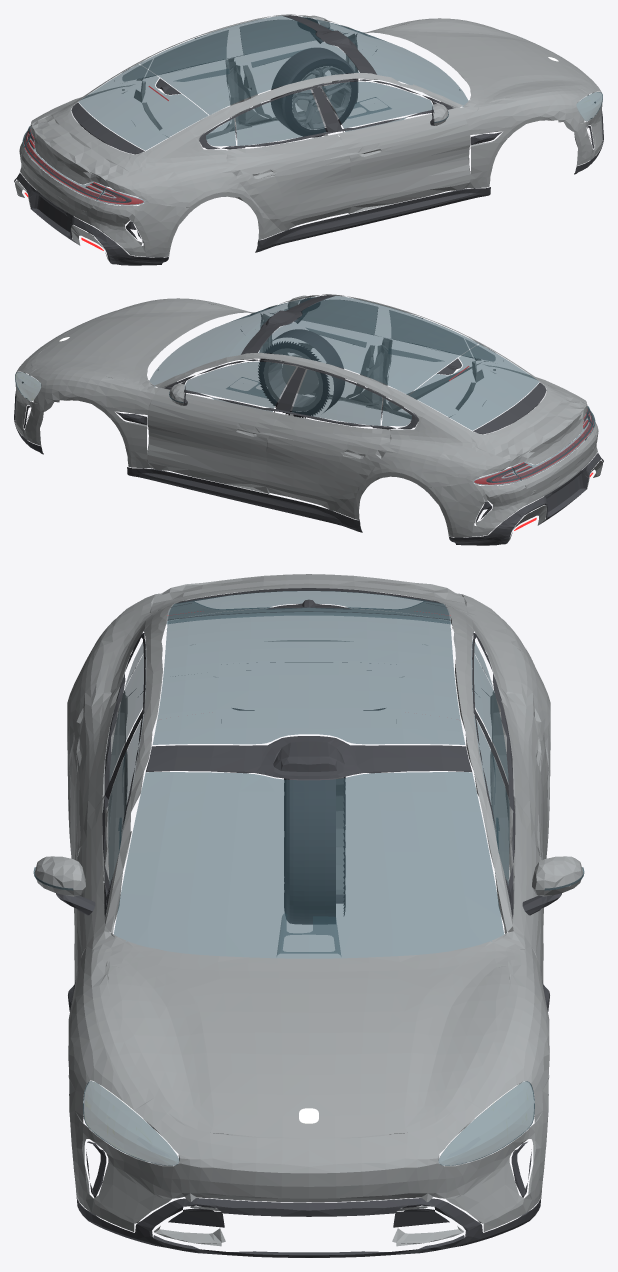
3 renders of one model, top to bottom at view 1: azimuth 30°, elevation 25°; view 2: azimuth 150°, elevation 25°; view 3: azimuth 270°, elevation 25°, orthographic. The views are drawn at different scales.
Visible parts, largest first — view 1: bodyPainted, bodyPart_05_Mesh26Mtl, bodyPart_06_Mesh25Mtl, wheelPainted, bodyPart_17_Mesh71Mtl, wheelInner, wheelTire, bodyPart_13_Mesh17Mtl, bodyPart_10_Mesh19Mtl, bodyPart_04_Mesh30Mtl, bodyPart_02_Mesh32Mtl, bodyPart_18_Mesh68Mtl; view 2: bodyPainted, bodyPart_05_Mesh26Mtl, bodyPart_06_Mesh25Mtl, bodyPart_17_Mesh71Mtl, wheelPainted, wheelInner, wheelTire, bodyPart_13_Mesh17Mtl, bodyPart_10_Mesh19Mtl, bodyPart_04_Mesh30Mtl, wheelBrake, bodyPart_02_Mesh32Mtl (+1 smaller); view 3: bodyPainted, bodyPart_05_Mesh26Mtl, bodyPart_06_Mesh25Mtl, bodyPart_02_Mesh32Mtl, wheelInner, bodyPart_18_Mesh68Mtl, bodyPart_17_Mesh71Mtl, bodyPart_04_Mesh30Mtl, wheelPainted.
Part boxes in pixels (x1=…): bodyPainted: x1=15, y1=14, x2=602, y2=261; bodyPart_05_Mesh26Mtl: x1=78, y1=15, x2=468, y2=150; bodyPart_06_Mesh25Mtl: x1=14, y1=15, x2=603, y2=265; wheelPainted: x1=292, y1=66, x2=350, y2=129; bodyPart_17_Mesh71Mtl: x1=22, y1=126, x2=144, y2=205; wheelInner: x1=270, y1=47, x2=357, y2=137; wheelTire: x1=284, y1=58, x2=357, y2=136; bodyPart_13_Mesh17Mtl: x1=24, y1=129, x2=143, y2=250; bodyPart_10_Mesh19Mtl: x1=24, y1=19, x2=376, y2=202; bodyPart_04_Mesh30Mtl: x1=176, y1=50, x2=406, y2=138; bodyPart_02_Mesh32Mtl: x1=316, y1=20, x2=602, y2=122; bodyPart_18_Mesh68Mtl: x1=576, y1=92, x2=602, y2=120; bodyPainted: x1=15, y1=294, x2=602, y2=541; bodyPart_05_Mesh26Mtl: x1=149, y1=295, x2=539, y2=430; bodyPart_06_Mesh25Mtl: x1=14, y1=295, x2=603, y2=545; bodyPart_17_Mesh71Mtl: x1=473, y1=406, x2=595, y2=485; wheelPainted: x1=264, y1=343, x2=332, y2=411; wheelInner: x1=271, y1=329, x2=345, y2=412; wheelTire: x1=258, y1=341, x2=329, y2=418; bodyPart_13_Mesh17Mtl: x1=474, y1=409, x2=593, y2=530; bodyPart_10_Mesh19Mtl: x1=241, y1=299, x2=593, y2=482; bodyPart_04_Mesh30Mtl: x1=211, y1=328, x2=441, y2=418; wheelBrake: x1=282, y1=354, x2=318, y2=394; bodyPart_02_Mesh32Mtl: x1=15, y1=300, x2=301, y2=402; bodyPainted: x1=34, y1=574, x2=583, y2=1246; bodyPart_05_Mesh26Mtl: x1=108, y1=590, x2=509, y2=958; bodyPart_06_Mesh25Mtl: x1=56, y1=588, x2=561, y2=1257; bodyPart_02_Mesh32Mtl: x1=33, y1=867, x2=584, y2=1165; wheelInner: x1=286, y1=777, x2=344, y2=924; bodyPart_18_Mesh68Mtl: x1=84, y1=1081, x2=533, y2=1165; bodyPart_17_Mesh71Mtl: x1=166, y1=601, x2=451, y2=623; bodyPart_04_Mesh30Mtl: x1=118, y1=740, x2=499, y2=954; wheelPainted: x1=336, y1=777, x2=344, y2=894.
Size of the model in its own units: 4.38 by 1.15 by 1.96.
